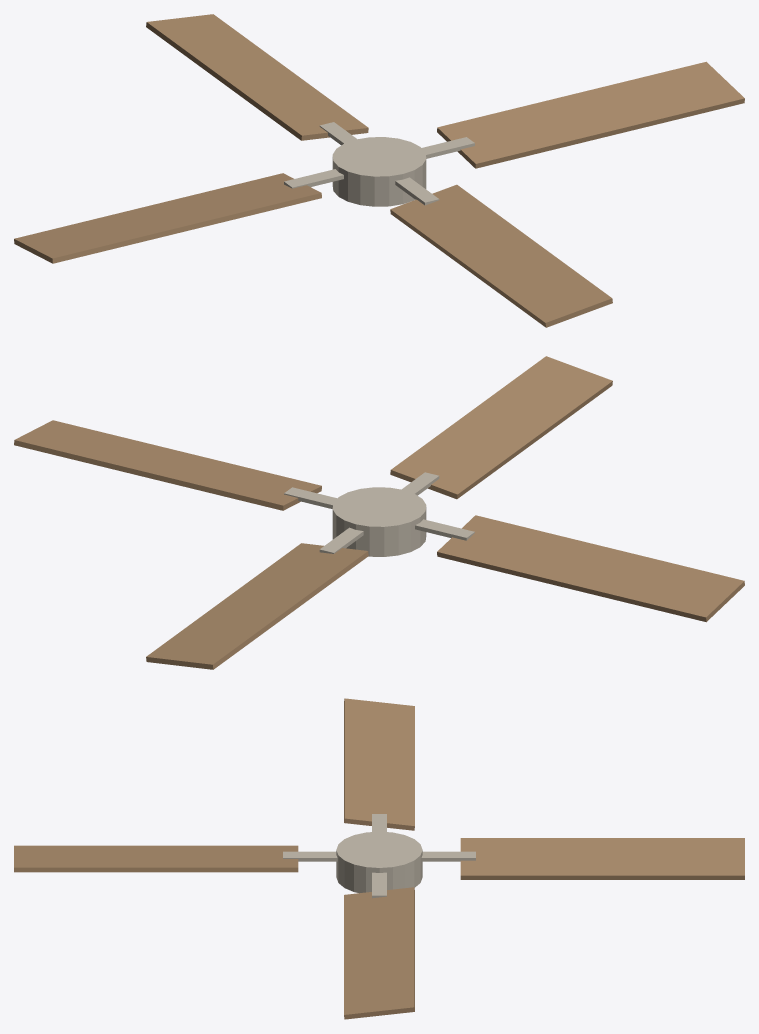
The model's file is dm_fanrotor.glb.
3 renders of one model, top to bottom at view 1: azimuth 30°, elevation 25°; view 2: azimuth 150°, elevation 25°; view 3: azimuth 270°, elevation 25°, orthographic. The views are drawn at different scales.
Visible parts, largest first — view 1: dm_fanrotor; view 2: dm_fanrotor; view 3: dm_fanrotor.
Boxes of the visible parts, x1,y1,x2,y2 form: dm_fanrotor: (14,14,744,327); dm_fanrotor: (14,356,744,669); dm_fanrotor: (14,698,744,1019).
Bounding box in the file's own units: 1.44 × 0.06 × 1.44.
